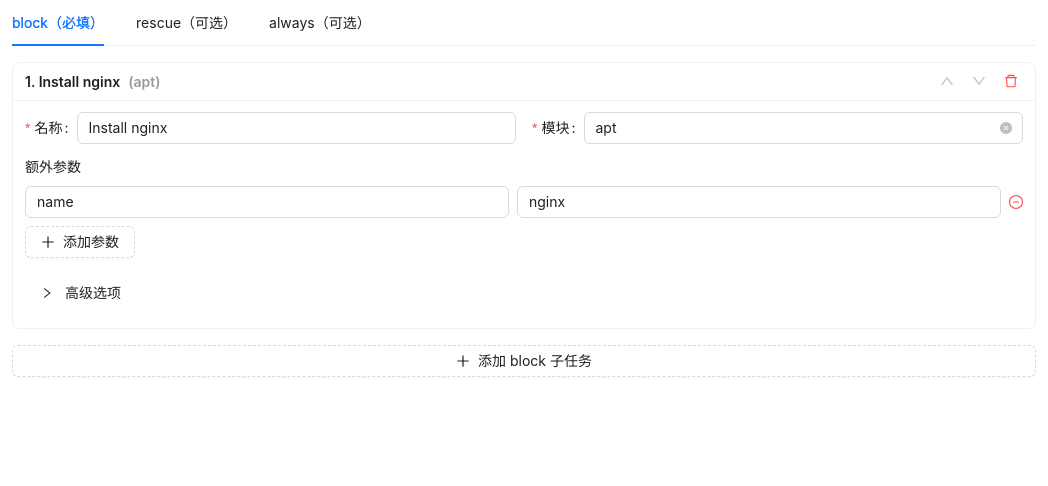
Test: BlockTasksEditor › renders rescue children when rescue tab is clicked
Click the tab "rescue（可选）": (186, 23) [136,12,237,34]
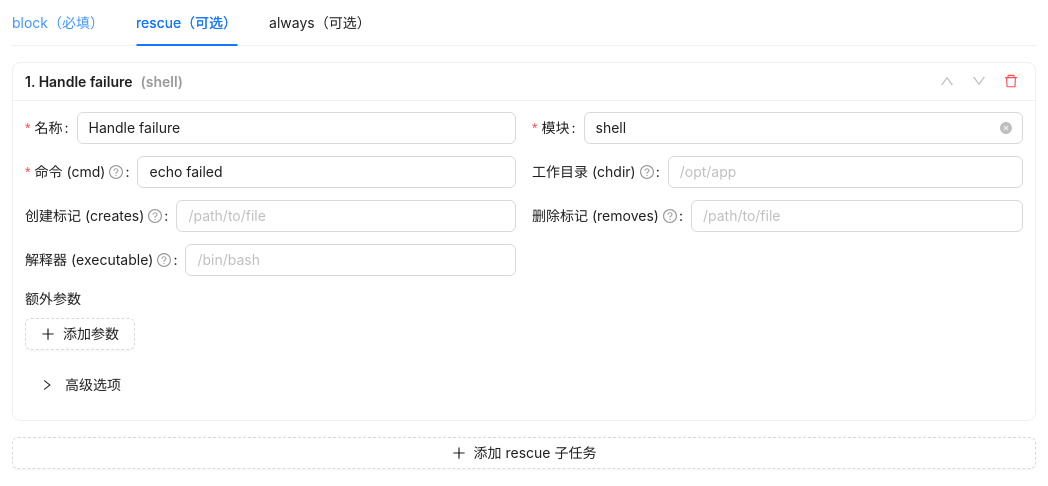
Result: the text "1. Handle failure" is shown at [25,72,132,90]
